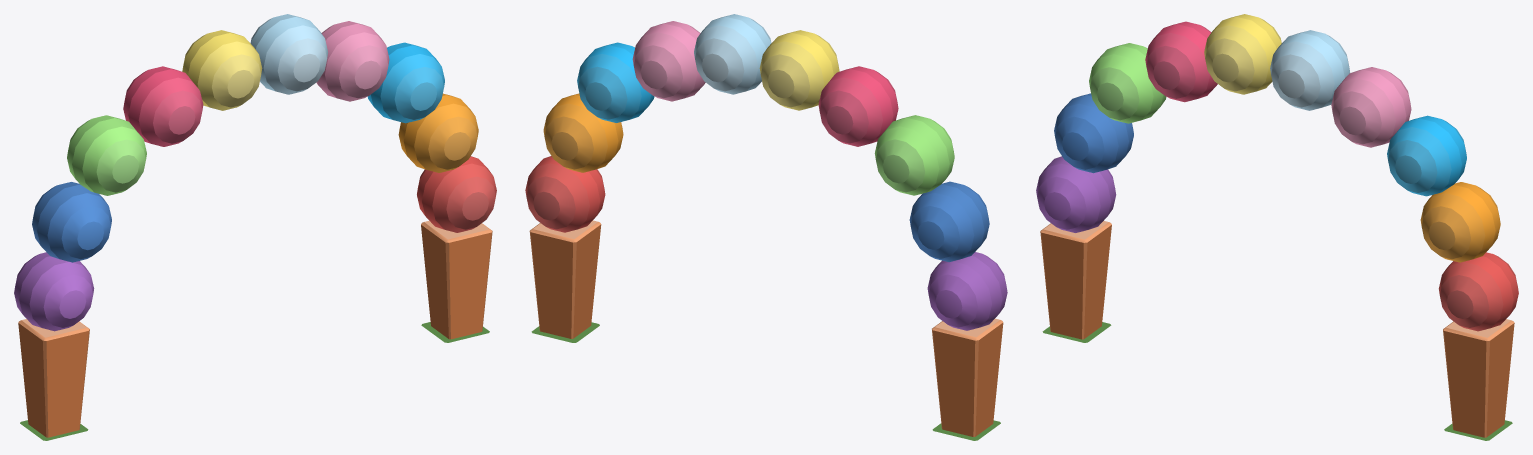
Rendered from bg_poi_007.fbx.
The picture shows the model from 3 angles, left to right: view 1: azimuth 30°, elevation 25°; view 2: azimuth 150°, elevation 25°; view 3: azimuth 330°, elevation 25°; orthographic projection.
Parts seen in each view (by area): view 1: bg_poi_007_3; view 2: bg_poi_007_3; view 3: bg_poi_007_3.
Boxes of the visible parts, left/top/right/bottom form: bg_poi_007_3: left=14, top=14, right=496, bottom=440; bg_poi_007_3: left=525, top=14, right=1007, bottom=440; bg_poi_007_3: left=1036, top=14, right=1518, bottom=440.
Bounding box in the file's own units: 859 × 612 × 127.
